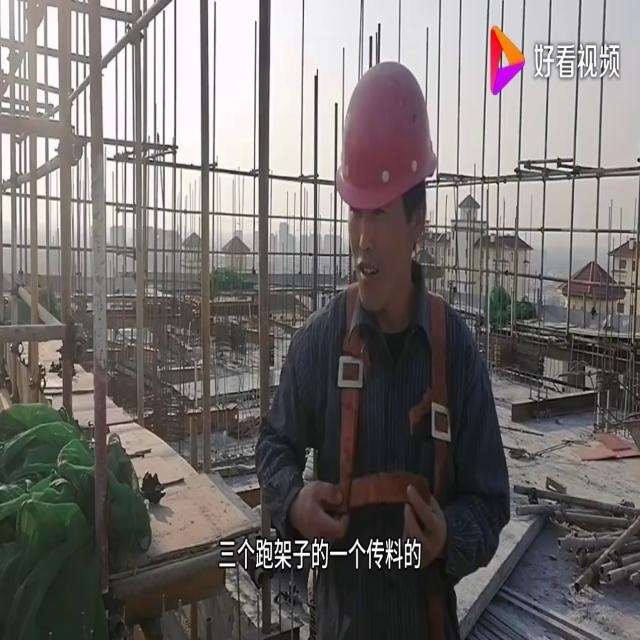Arnes_seguridad: (318, 269, 459, 523)
